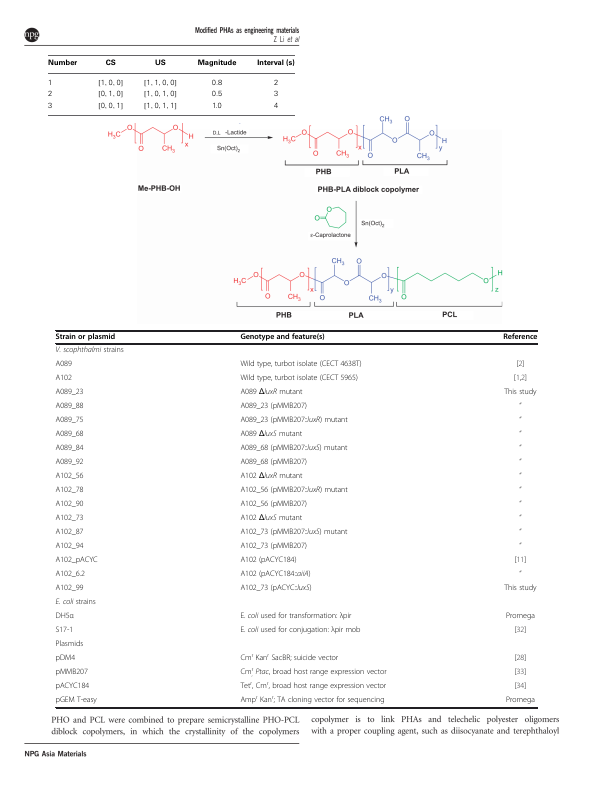borderless: (54, 329, 537, 707), (47, 53, 295, 115)
cell: (239, 666, 387, 678), (239, 680, 387, 692), (239, 694, 385, 706), (239, 360, 362, 370), (239, 626, 361, 636), (239, 374, 359, 384), (239, 652, 339, 664), (239, 612, 352, 622), (239, 416, 349, 426), (239, 486, 349, 496), (239, 444, 348, 454), (239, 528, 348, 538), (239, 333, 326, 342), (239, 584, 312, 594), (239, 570, 311, 580), (55, 346, 125, 356), (239, 402, 308, 412), (239, 458, 308, 468), (239, 500, 308, 510), (239, 542, 308, 552), (239, 388, 303, 398), (239, 430, 303, 440), (239, 472, 303, 482), (239, 514, 303, 524), (239, 556, 297, 566), (55, 333, 116, 342), (55, 556, 99, 566), (55, 696, 98, 706), (55, 598, 97, 608), (196, 59, 237, 68), (256, 59, 295, 68), (55, 682, 90, 692), (503, 388, 537, 398), (503, 584, 537, 594), (55, 668, 89, 678), (502, 333, 538, 342), (142, 78, 177, 87), (142, 101, 177, 110), (55, 570, 86, 580), (505, 612, 536, 622), (505, 696, 536, 706), (55, 388, 84, 398), (55, 402, 84, 412), (55, 416, 84, 426), (55, 430, 84, 440), (55, 444, 84, 454), (55, 458, 84, 468), (55, 472, 84, 482), (55, 486, 84, 496), (55, 500, 84, 510), (55, 514, 84, 524), (55, 528, 84, 538), (55, 542, 84, 552), (55, 584, 84, 594), (55, 640, 84, 650), (46, 59, 78, 68), (142, 90, 177, 98), (97, 78, 124, 87), (97, 101, 124, 110), (97, 90, 124, 98), (55, 654, 76, 664), (55, 612, 75, 622), (55, 626, 74, 636), (55, 360, 73, 370), (55, 374, 73, 384), (513, 374, 528, 384), (513, 556, 527, 566), (513, 626, 527, 636), (513, 654, 527, 664), (513, 668, 527, 678), (513, 682, 527, 692), (153, 59, 166, 68), (104, 59, 116, 68), (210, 78, 223, 86), (515, 360, 525, 370), (210, 90, 223, 97), (211, 101, 222, 109), (46, 78, 53, 86), (272, 78, 278, 86), (47, 101, 53, 109), (272, 101, 278, 109), (47, 90, 53, 97), (272, 90, 278, 97), (518, 402, 522, 410), (518, 416, 522, 424), (518, 430, 522, 438), (518, 444, 522, 452), (518, 458, 522, 466), (518, 472, 522, 480), (518, 486, 522, 494), (518, 500, 522, 508), (518, 514, 522, 522), (518, 528, 522, 536), (518, 542, 522, 550), (518, 570, 522, 578)
